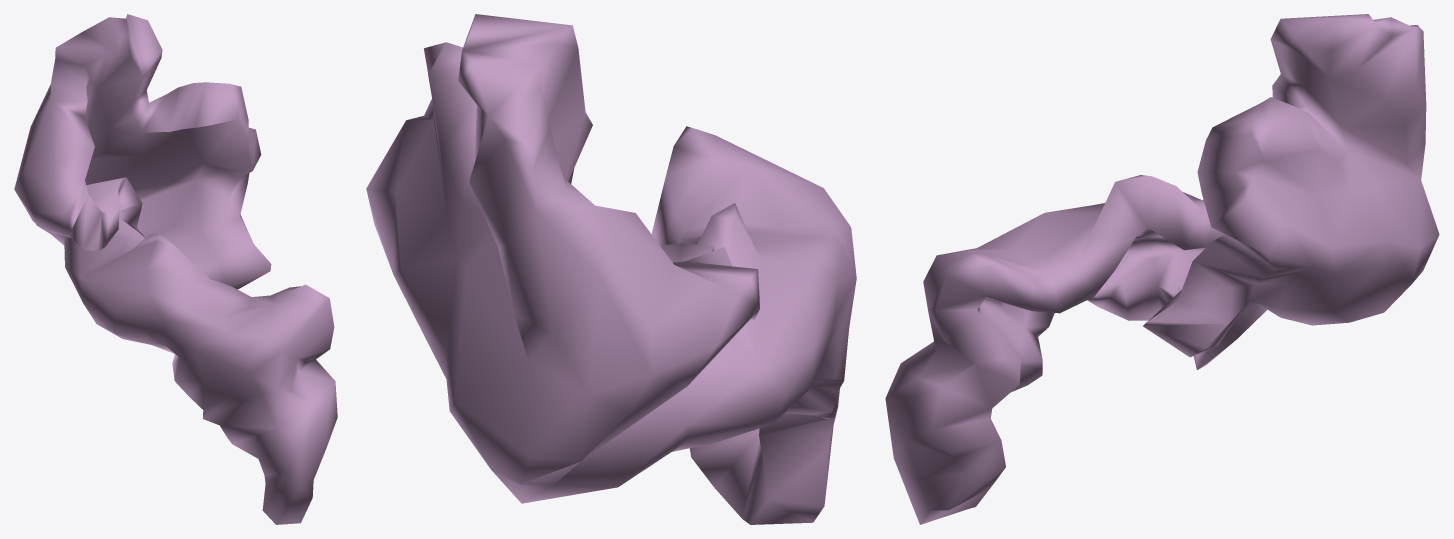
The picture shows the model from 3 angles, left to right: view 1: azimuth 30°, elevation 25°; view 2: azimuth 150°, elevation 25°; view 3: azimuth 270°, elevation 25°; orthographic projection. The views are drawn at different scales.
Parts seen in each view (by area): view 1: 右侧额下回岛盖部; view 2: 右侧额下回岛盖部; view 3: 右侧额下回岛盖部.
Boxes of the visible parts, bbox=[...] form: 右侧额下回岛盖部: bbox=[14, 14, 337, 524]; 右侧额下回岛盖部: bbox=[366, 14, 856, 524]; 右侧额下回岛盖部: bbox=[885, 14, 1439, 524].
Size of the model in its own units: 0.0333 by 0.0587 by 0.0579.
